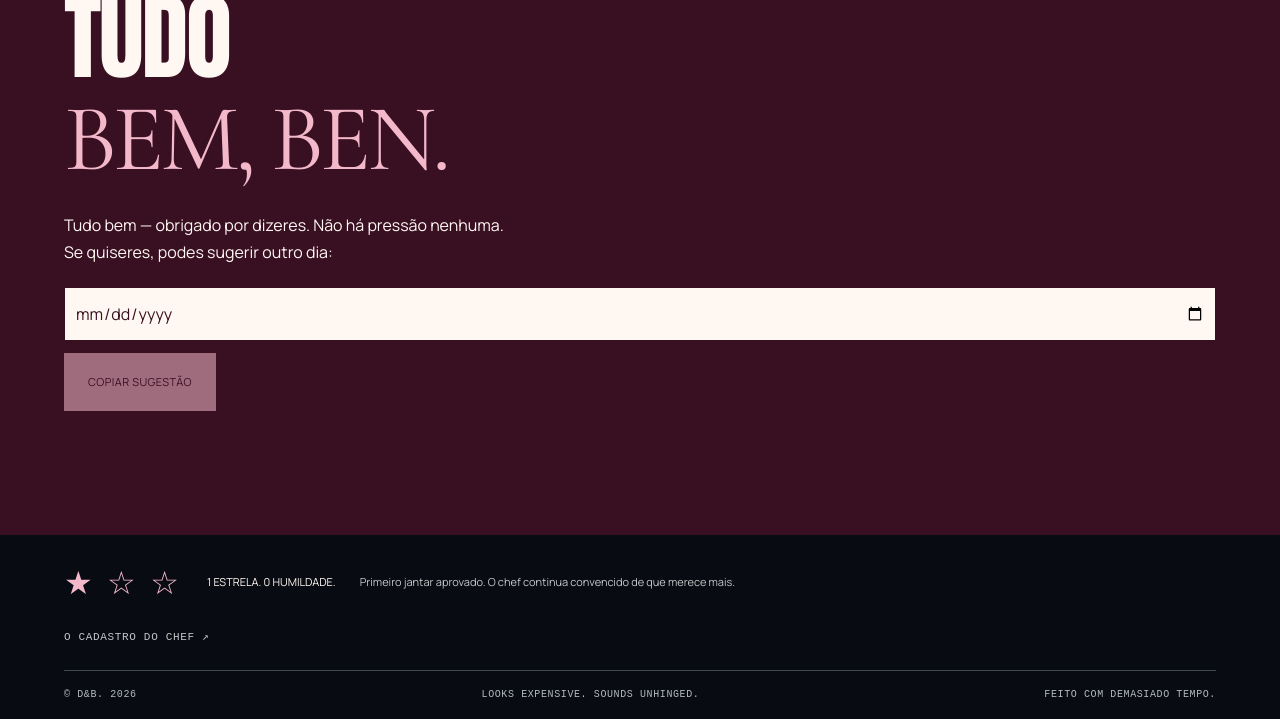
Test case: O Interrogatório › recusa no convite sem insistência e permite sugerir outro dia
The image size is (1280, 719).
Earlier steps of the test are not shown.
(page scrolled)
Expected: the text "Tudo bem — obrigado por dizeres. Não há pressão nenhuma." is shown, [64, 214, 504, 236]
Type "2026-12-02" into the date field labelled "Se quiseres, podes sugerir outro dia:" at (640, 314), box [64, 287, 1216, 341]
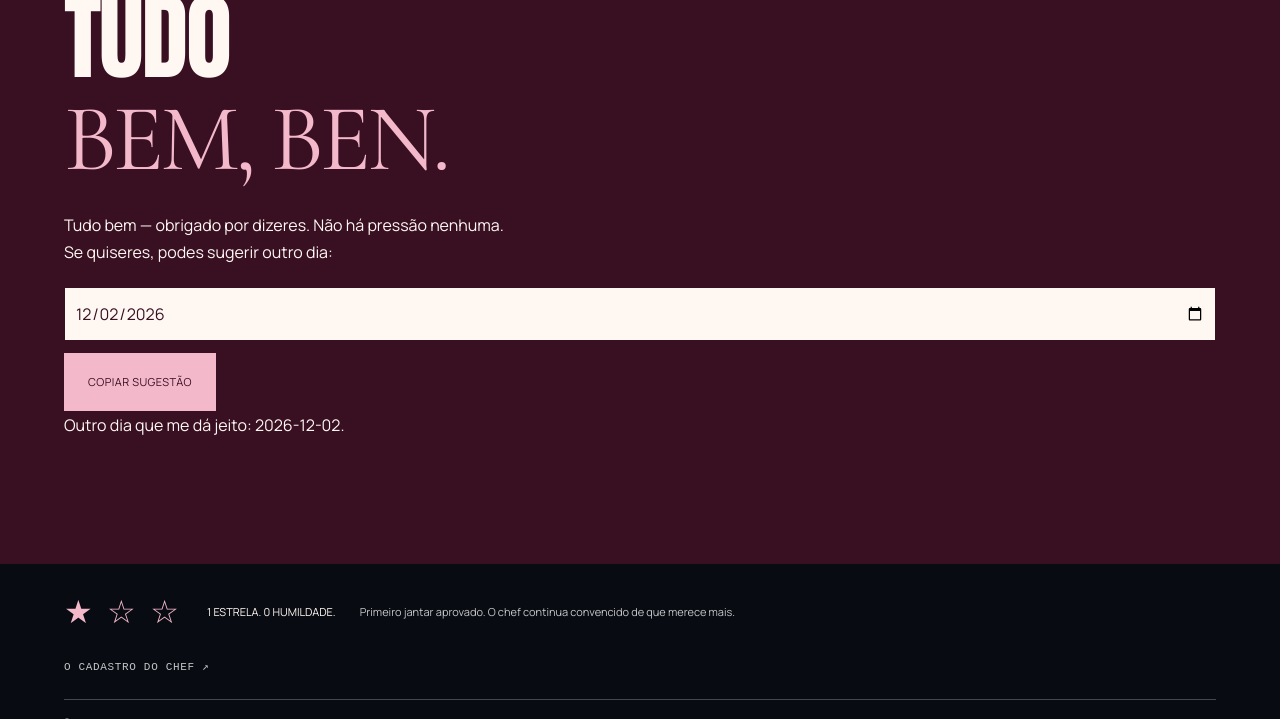
Click the button "COPIAR SUGESTÃO" at (140, 382), box [64, 353, 216, 411]
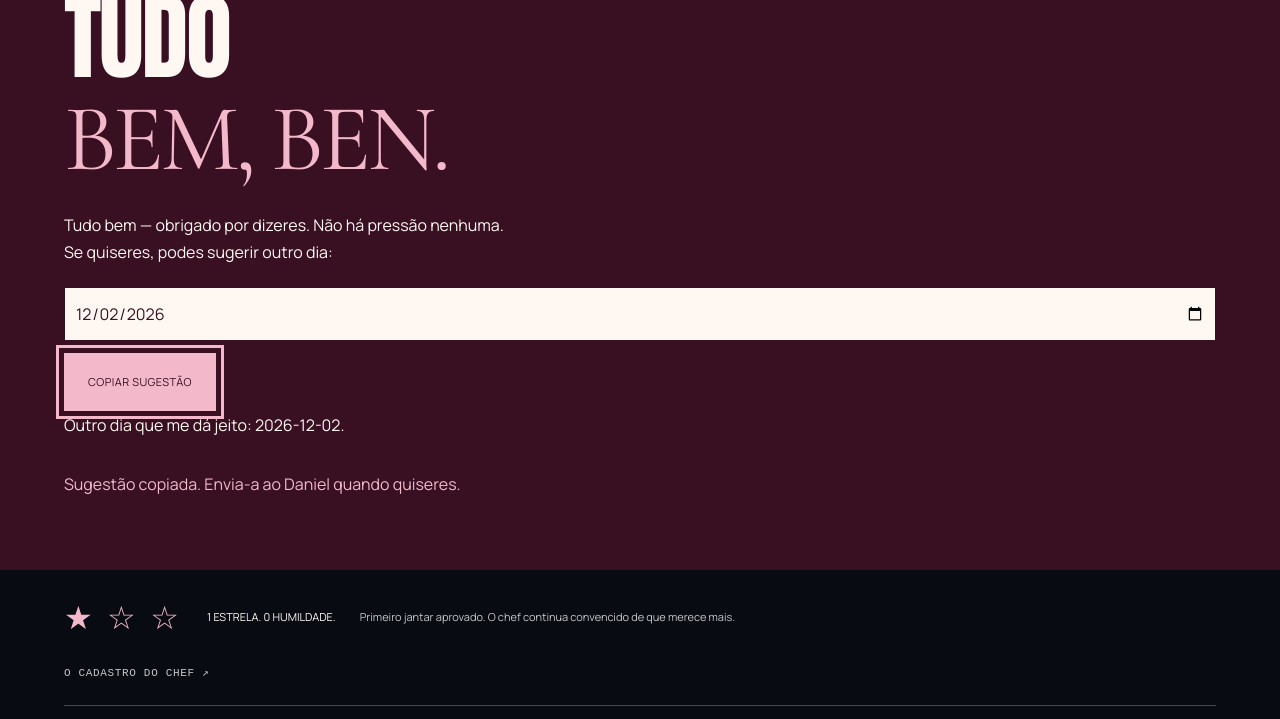
Expected: the message shows "Sugestão copiada.", [64, 473, 461, 495]
